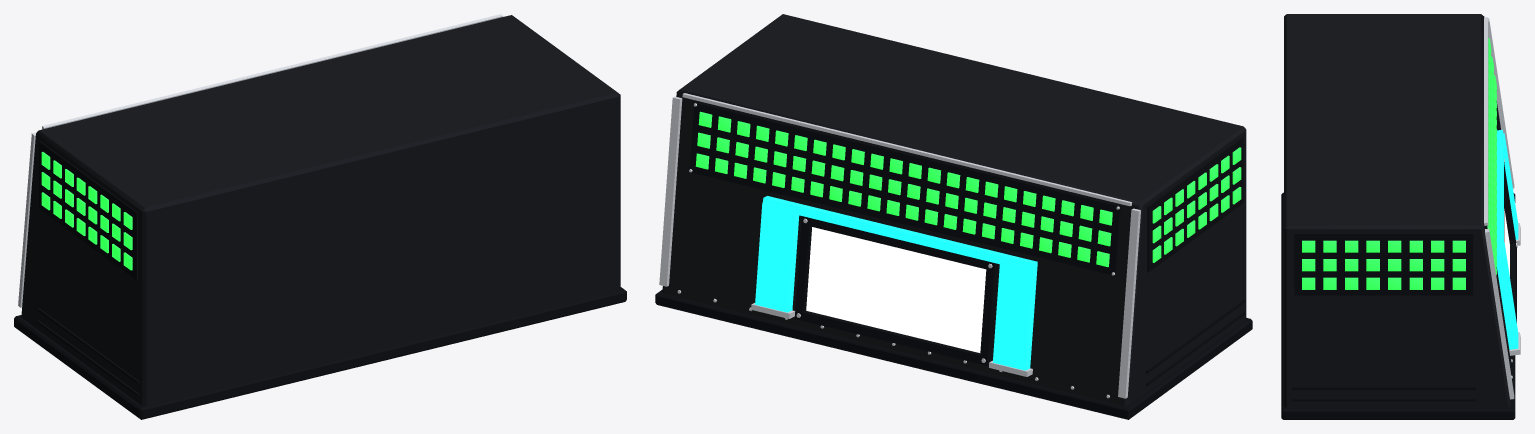
Rendered from deck_led_columns.glb.
3 renders of one model, left to right at view 1: azimuth 30°, elevation 25°; view 2: azimuth 150°, elevation 25°; view 3: azimuth 270°, elevation 25°, orthographic. The views are drawn at different scales.
Parts seen in each view (by area): view 1: deck_led_columns_deco_body, deck_led_columns_deco_trim, deck_led_columns_deco_led, deck_led_columns_chrome; view 2: deck_led_columns_deco_body, deck_led_columns_deco_trim, deck_led_columns_deco_led, deck_led_columns_acrylic_sign, deck_led_columns_deco_neon, deck_led_columns_chrome; view 3: deck_led_columns_deco_body, deck_led_columns_deco_trim, deck_led_columns_deco_led, deck_led_columns_chrome, deck_led_columns_deco_neon.
Part boxes in pixels (x1=…): deck_led_columns_deco_body: x1=21, y1=15, x2=620, y2=406; deck_led_columns_deco_trim: x1=14, y1=141, x2=626, y2=419; deck_led_columns_deco_led: x1=41, y1=152, x2=132, y2=270; deck_led_columns_chrome: x1=18, y1=14, x2=503, y2=307; deck_led_columns_deco_body: x1=662, y1=14, x2=1246, y2=406; deck_led_columns_deco_trim: x1=655, y1=102, x2=1252, y2=419; deck_led_columns_deco_led: x1=695, y1=111, x2=1241, y2=267; deck_led_columns_acrylic_sign: x1=806, y1=227, x2=986, y2=352; deck_led_columns_deco_neon: x1=755, y1=196, x2=1037, y2=370; deck_led_columns_chrome: x1=659, y1=93, x2=1140, y2=398; deck_led_columns_deco_body: x1=1284, y1=14, x2=1511, y2=407; deck_led_columns_deco_trim: x1=1281, y1=163, x2=1516, y2=419; deck_led_columns_deco_led: x1=1302, y1=38, x2=1496, y2=289; deck_led_columns_chrome: x1=1484, y1=17, x2=1520, y2=399; deck_led_columns_deco_neon: x1=1496, y1=129, x2=1518, y2=349.
Bounding box in the file's own units: 2.14 × 0.8784 × 0.9916.
